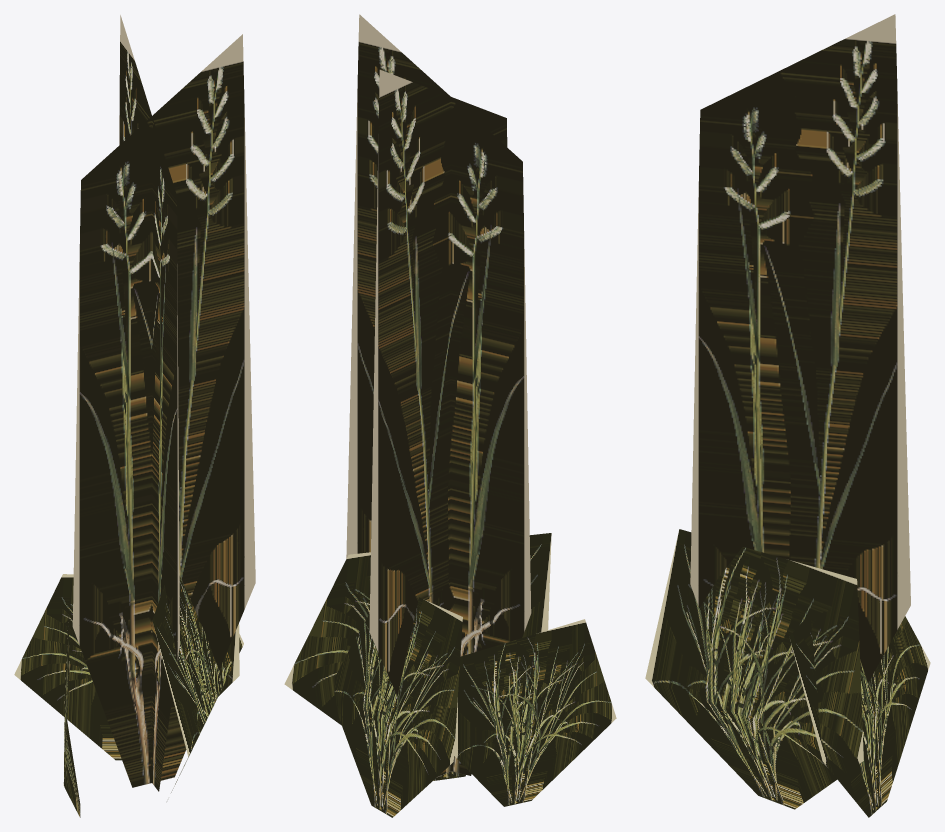
Rendered from SM_FOL_Grass_Tall_01_A.fbx.
The picture shows the model from 3 angles, left to right: view 1: azimuth 30°, elevation 25°; view 2: azimuth 150°, elevation 25°; view 3: azimuth 270°, elevation 25°; orthographic projection. The views are drawn at different scales.
Parts seen in each view (by area): view 1: SM_FOL_Grass_Tall_01_A; view 2: SM_FOL_Grass_Tall_01_A; view 3: SM_FOL_Grass_Tall_01_A.
Part boxes in pixels (x1,y1,x2,y2): SM_FOL_Grass_Tall_01_A: (14, 15, 255, 817); SM_FOL_Grass_Tall_01_A: (284, 14, 616, 817); SM_FOL_Grass_Tall_01_A: (645, 14, 930, 817).
Size of the model in its own units: 44.49 by 124 by 40.41.
Materials: 1 (1 with a texture image).
